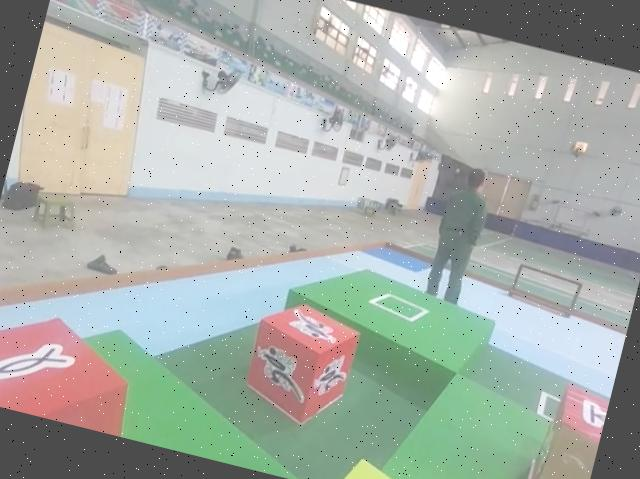R1: (238, 292, 365, 432)
R2 Real: (0, 292, 148, 437)
